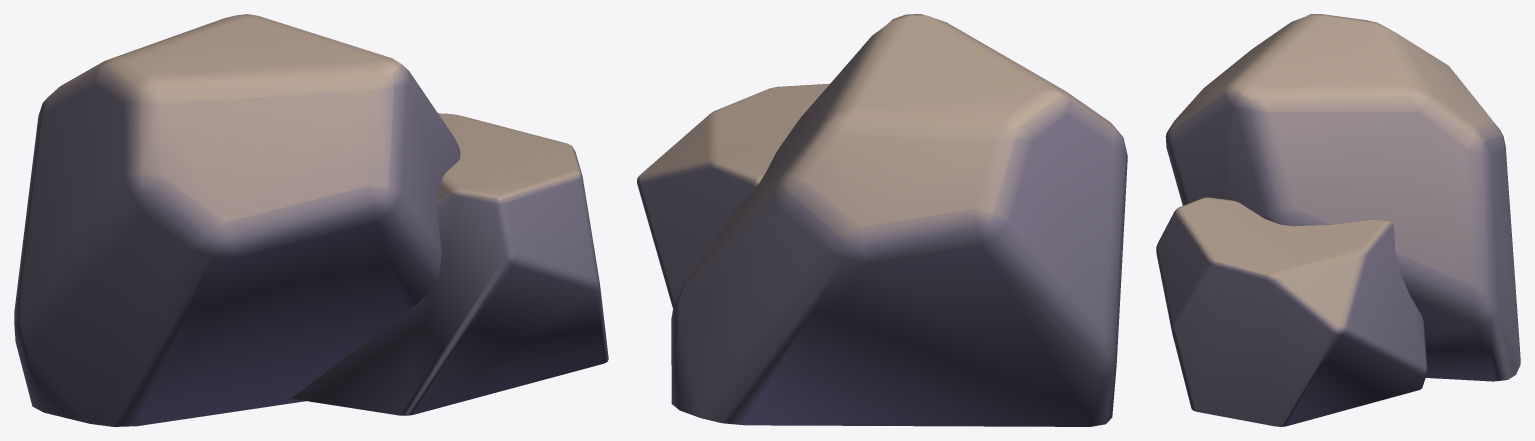
File: Boulder3.fbx
The picture shows the model from 3 angles, left to right: view 1: azimuth 30°, elevation 25°; view 2: azimuth 150°, elevation 25°; view 3: azimuth 270°, elevation 25°; orthographic projection. The views are drawn at different scales.
Parts seen in each view (by area): view 1: Boulder3; view 2: Boulder3; view 3: Boulder3.
Part boxes in pixels (x1,y1,x2,y2): Boulder3: (14,14,608,426); Boulder3: (637,14,1127,426); Boulder3: (1156,14,1520,426).
Bounding box in the file's own units: 1.5 × 0.8754 × 1.12.
